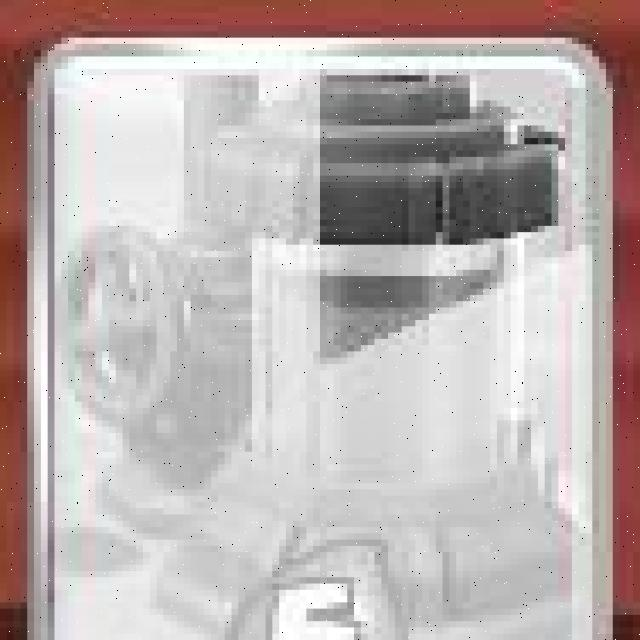Elixir_Pump: (21, 27, 613, 640)
